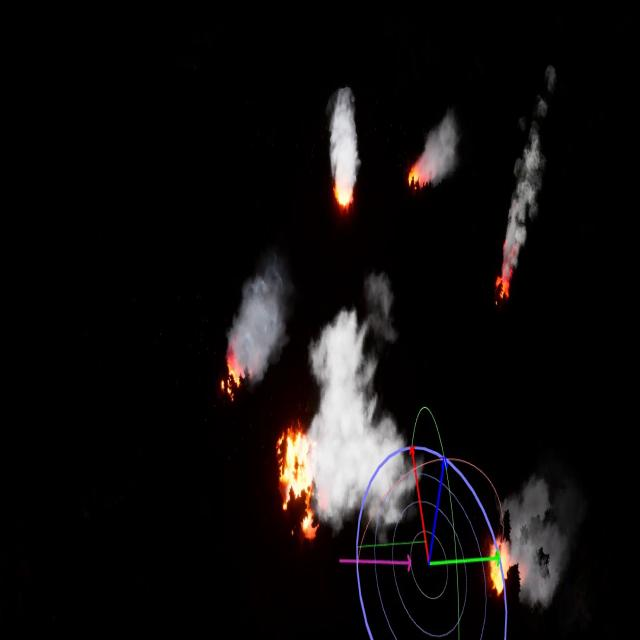fire: (273, 423, 318, 544), (490, 544, 520, 593), (218, 346, 246, 395), (496, 248, 515, 301), (407, 154, 430, 187), (334, 183, 356, 208)
smoke: (306, 274, 421, 532), (503, 68, 555, 260), (507, 476, 566, 599), (229, 260, 283, 390), (326, 87, 362, 183), (420, 114, 460, 198)
